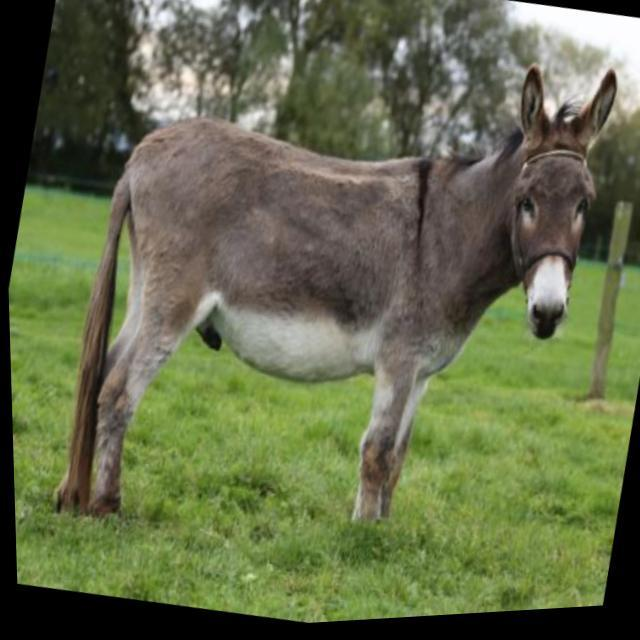Donkey: (42, 0, 634, 603)
